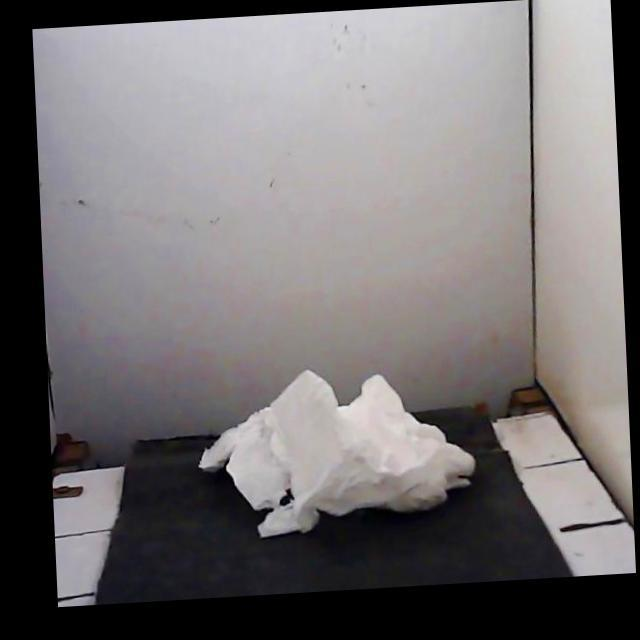papel: (199, 370, 474, 537)
